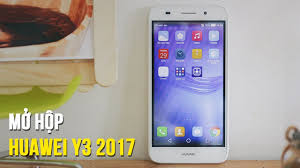huawei: (147, 5, 230, 168)
